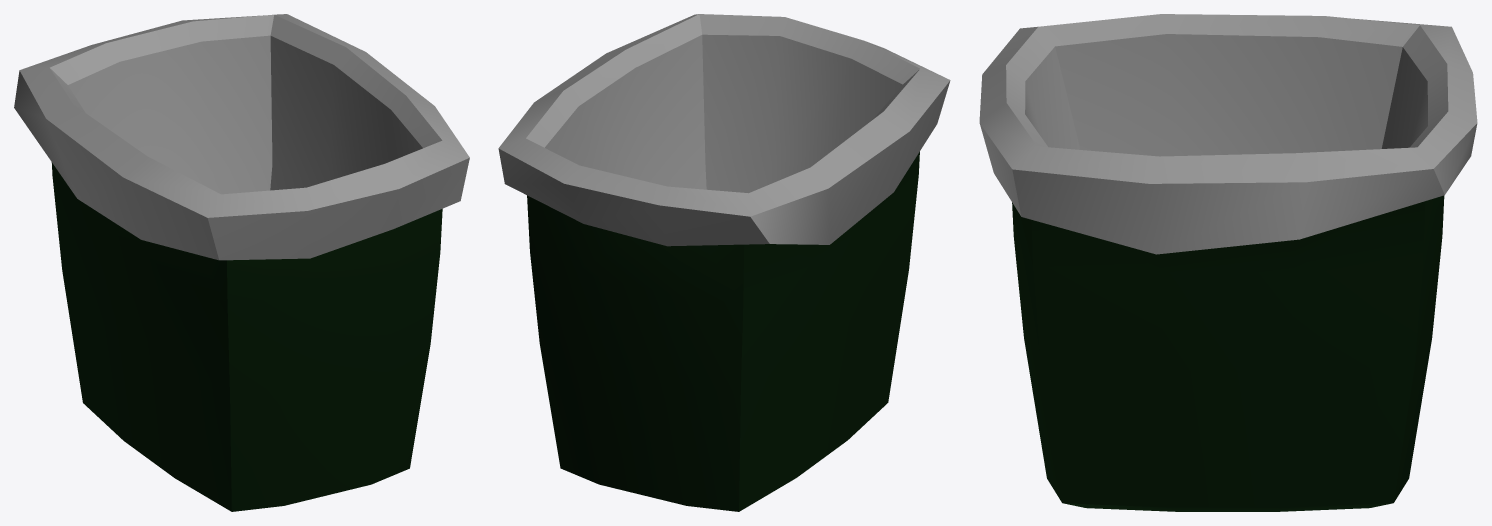
Rendered from Bin_Wastepaper.fbx.
The picture shows the model from 3 angles, left to right: view 1: azimuth 30°, elevation 25°; view 2: azimuth 150°, elevation 25°; view 3: azimuth 270°, elevation 25°; orthographic projection. The views are drawn at different scales.
Visible parts, largest first — view 1: Bin_Wastepaper; view 2: Bin_Wastepaper; view 3: Bin_Wastepaper.
Part boxes in pixels (x1,y1,x2,y2): Bin_Wastepaper: [14, 14, 469, 511]; Bin_Wastepaper: [498, 14, 950, 511]; Bin_Wastepaper: [979, 14, 1477, 511].
Bounding box in the file's own units: 17.13 × 17.74 × 20.79.
